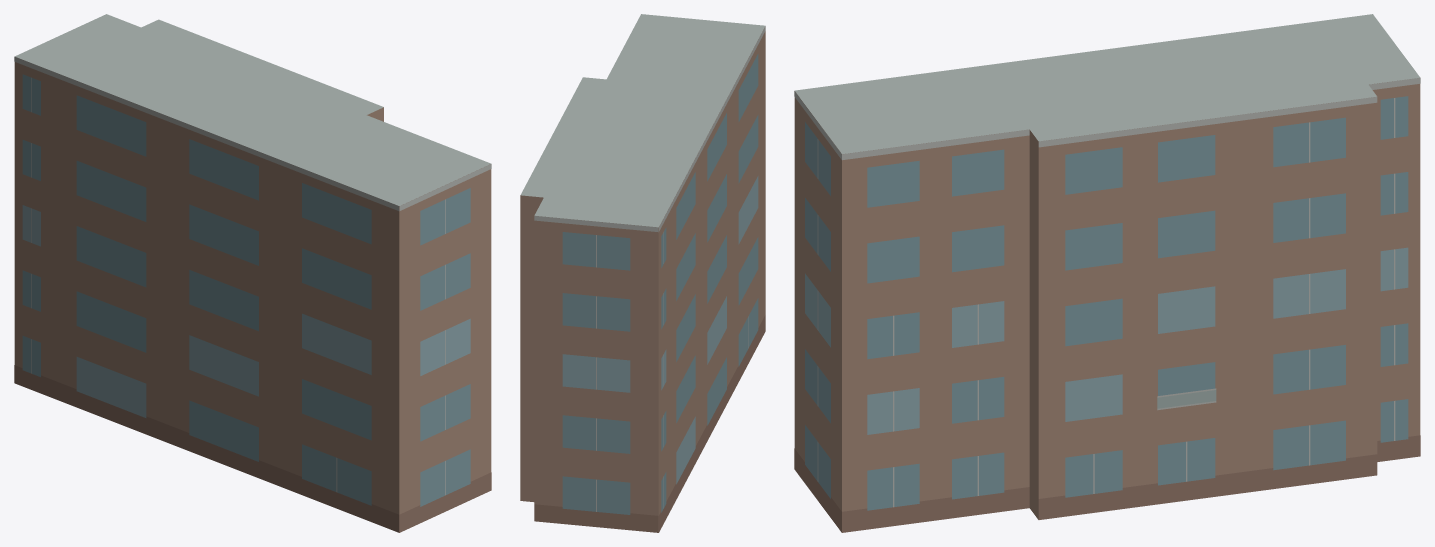
File: survey-upis-33047024.glb
3 views of the same model, side by side, from view 1: azimuth 30°, elevation 25°; view 2: azimuth 150°, elevation 25°; view 3: azimuth 270°, elevation 25° (orthographic). The views are drawn at different scales.
Visible parts, largest first — view 1: survey-upis-33047024.tmp; view 2: survey-upis-33047024.tmp; view 3: survey-upis-33047024.tmp.
Part boxes in pixels (x1,y1,x2,y2): survey-upis-33047024.tmp: (14, 14, 491, 532); survey-upis-33047024.tmp: (520, 14, 765, 532); survey-upis-33047024.tmp: (794, 14, 1420, 532).
Bounding box in the file's own units: 12.2 × 15.35 × 23.01.
